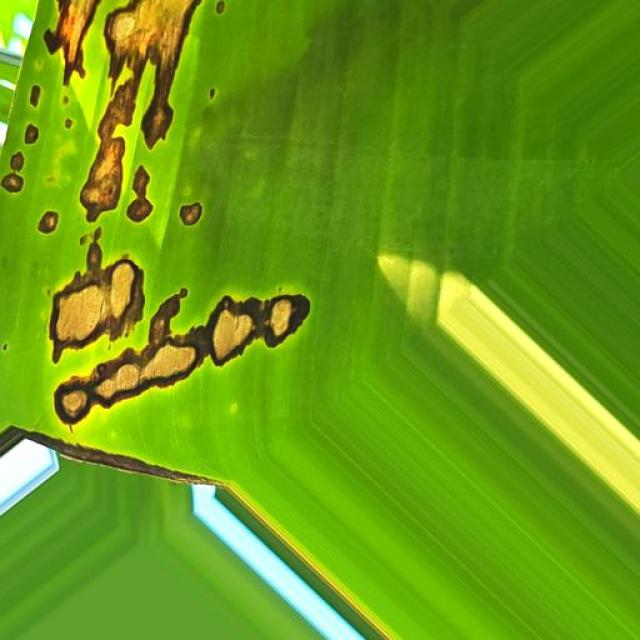Early_rust: (0, 0, 350, 438)
